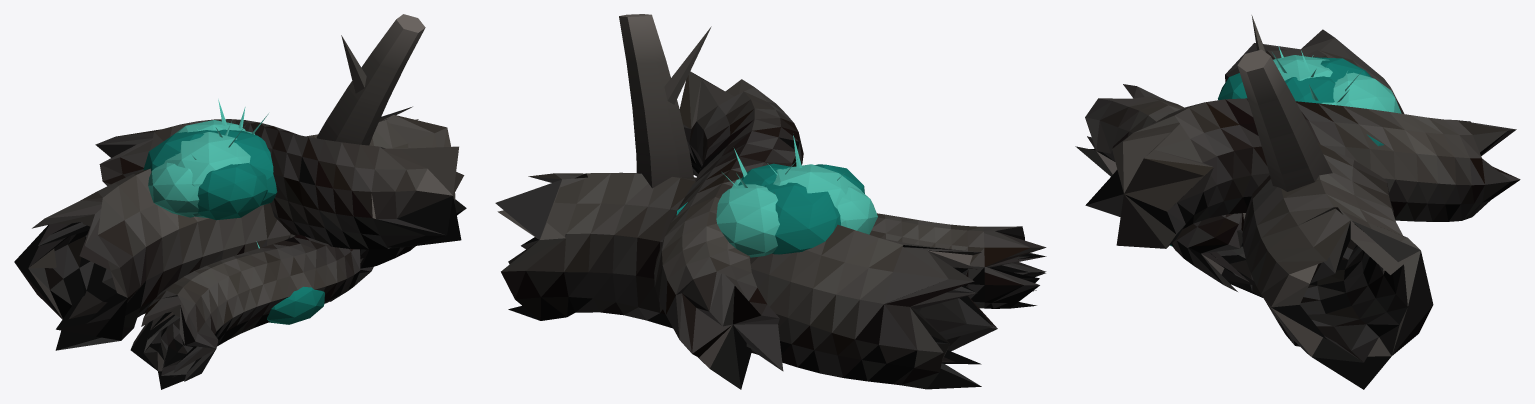
File: pohon_tumbang_logjam_swamp_948032 (1).glb
3 views of the same model, side by side, from view 1: azimuth 30°, elevation 25°; view 2: azimuth 150°, elevation 25°; view 3: azimuth 270°, elevation 25° (orthographic). The views are drawn at different scales.
Parts seen in each view (by area): view 1: Tumpukan_Kayu_Hanyut; view 2: Tumpukan_Kayu_Hanyut; view 3: Tumpukan_Kayu_Hanyut.
Boxes of the visible parts, <box> form: Tumpukan_Kayu_Hanyut: <box>14,14,466,389</box>; Tumpukan_Kayu_Hanyut: <box>495,14,1046,389</box>; Tumpukan_Kayu_Hanyut: <box>1075,15,1520,389</box>.
Size of the model in its own units: 4.65 by 2.75 by 3.73.
